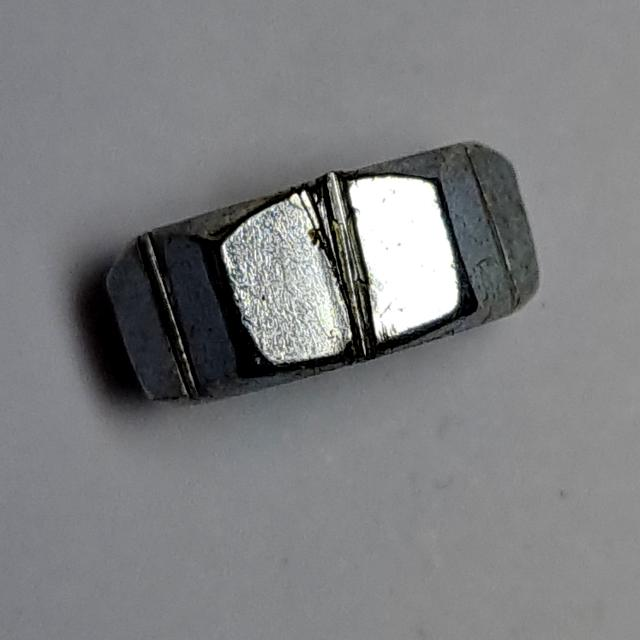Side_Scratches: (98, 126, 562, 419)
